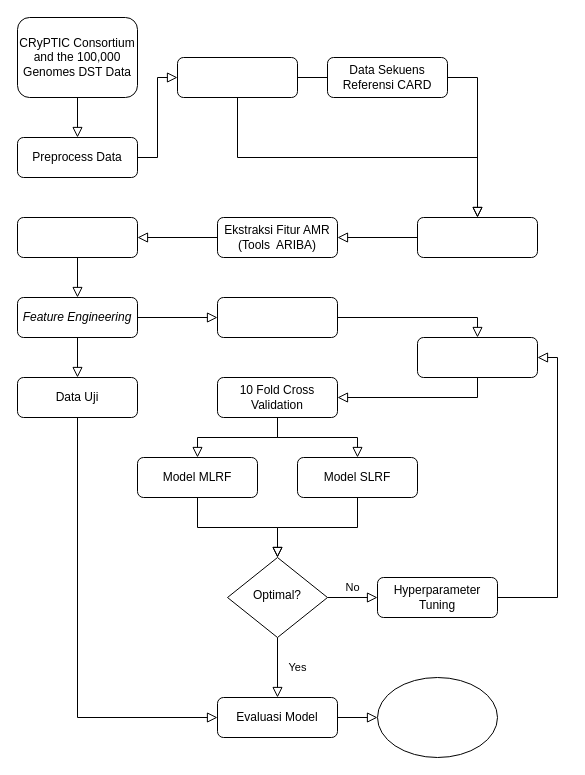
Some shapes in this 585 by 775 pixel diagram are drawn without their labels. The centre of each missing label's shape, as x and y in pixels:
"Akuisisi Data Sekuens ENA (EnaBrowserTools)" belongs at point (237, 77).
"Data Latih" belongs at point (277, 317).
"Fitur AMR Sekuens" belongs at point (77, 237).
"Klasifikasi Resistensi Obat" belongs at point (437, 717).
"Pemilihan Hyperparameter" belongs at point (477, 357).
"Stratified Sampling" belongs at point (477, 237).
